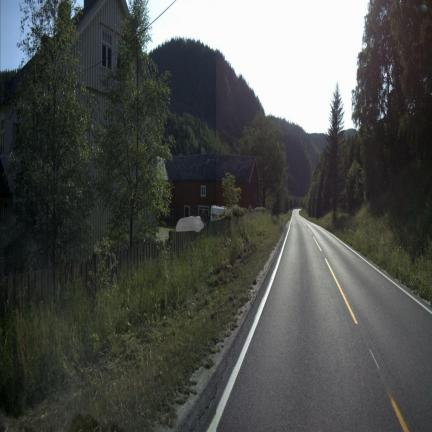Road: (208, 210, 431, 431)
